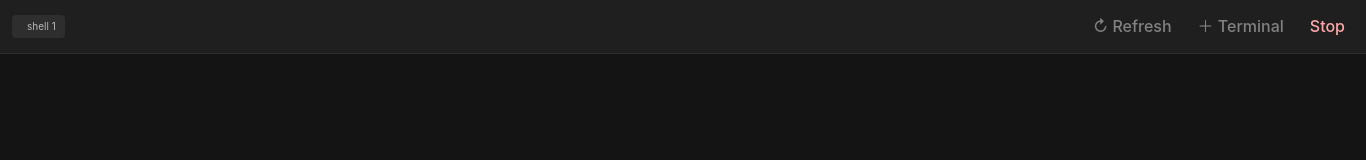
Scenario: TerminalPane › requires reconciliation after an ambiguous terminal stop
Expected: the tab "shell 1" is shown, [12, 15, 65, 38]
Click the button "Stop" at {"x": 1327, "y": 26}, box [1301, 8, 1354, 45]
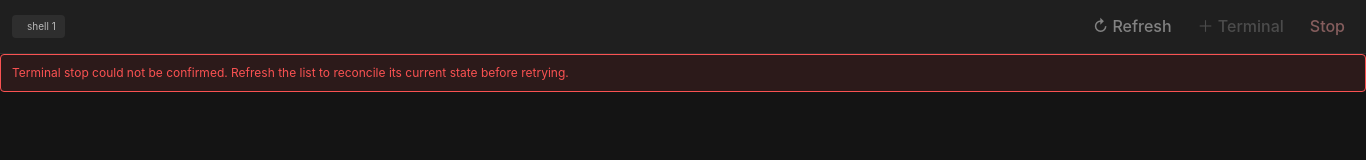
Expected: the message shows "Terminal stop could not be confirmed", [12, 65, 569, 80]
Expected: the button "Stop" is disabled, [1301, 8, 1354, 45]
Click the button "↻ Refresh" at {"x": 1132, "y": 26}, box [1084, 8, 1181, 45]
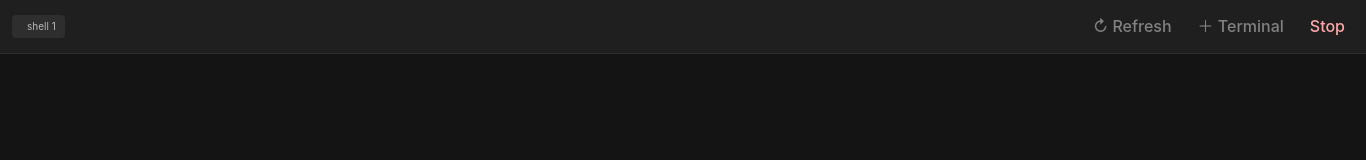
Expected: the button "Stop" is enabled, [1301, 8, 1354, 45]
Expected: the message "Terminal stop could not be confirmed. Refresh the list to reconcile its current" is gone
